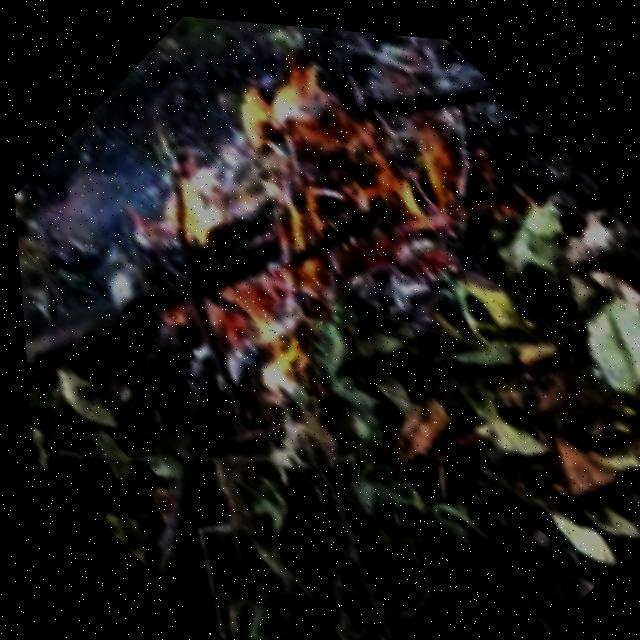Fire: (96, 7, 509, 413)
